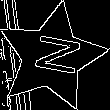N_W: (23, 33, 80, 82)
